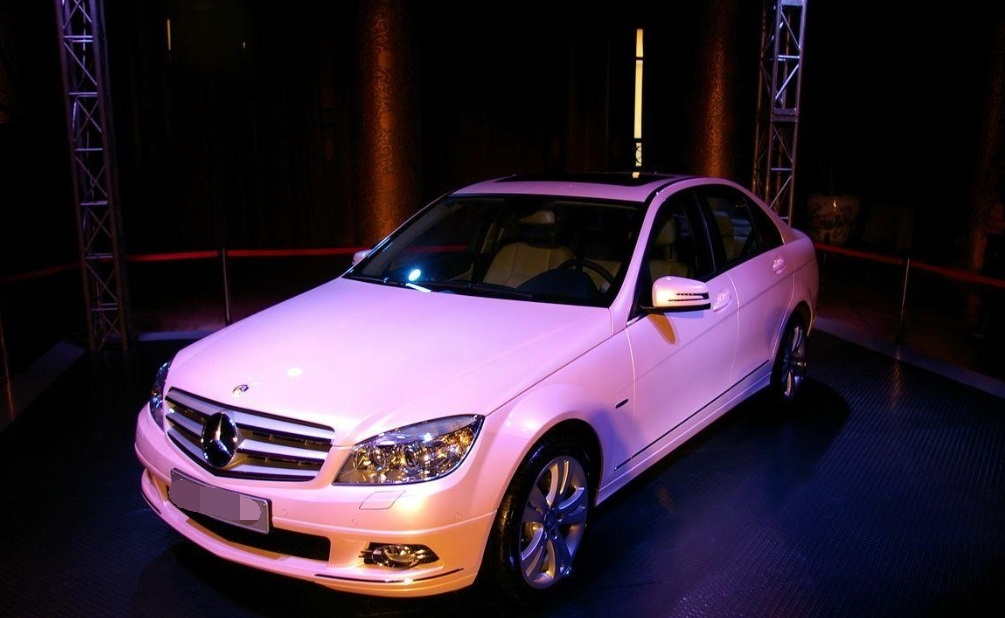family sedan: (146, 144, 836, 589)
